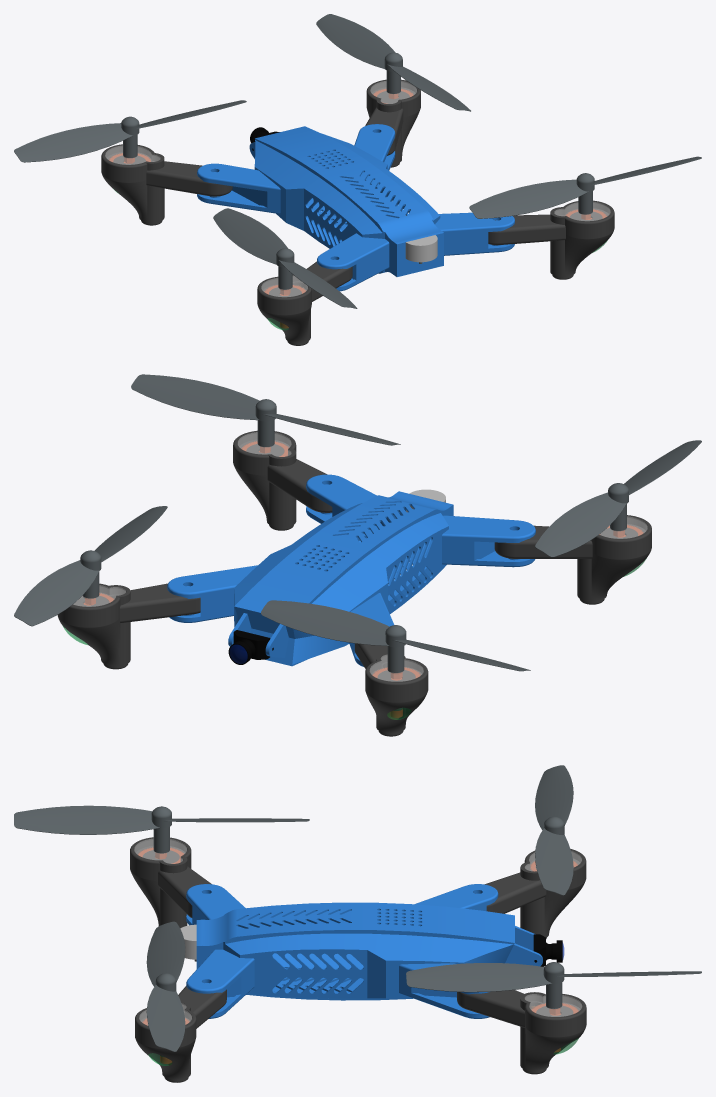
Rendered from drone.glb.
The picture shows the model from 3 angles, top to bottom: view 1: azimuth 30°, elevation 25°; view 2: azimuth 150°, elevation 25°; view 3: azimuth 270°, elevation 25°; orthographic projection. The views are drawn at different scales.
Visible parts, largest first — view 1: Solid1.006, Solid1.005, Solid1.020, Solid1.004, Solid1.013, Solid1.021, Solid1.003, Solid1.016, Solid1.017, Solid1.011, Solid1.009; view 2: Solid1.006, Solid1.011, Solid1.005, Solid1.020, Solid1.017, Solid1.021, Solid1.013, Solid1.016, Solid1.003, Solid1.004, Solid1.001; view 3: Solid1.006, Solid1.005, Solid1.011, Solid1.016, Solid1.003, Solid1.017, Solid1.013, Solid1.021, Solid1.004, Solid1.020, Solid1.001.
Part boxes in pixels (x1,y1,x2,y2): Solid1.006: (197,124,514,272); Solid1.005: (197,147,514,291); Solid1.020: (488,200,614,279); Solid1.004: (101,144,232,225); Solid1.013: (14,100,246,162); Solid1.021: (469,156,701,218); Solid1.003: (316,14,470,111); Solid1.016: (213,208,357,308); Solid1.017: (257,261,352,345); Solid1.011: (365,79,420,167); Solid1.009: (405,235,437,262); Solid1.006: (167,474,535,651); Solid1.011: (57,583,200,669); Solid1.005: (169,506,535,666); Solid1.020: (233,430,332,530); Solid1.017: (494,515,651,604); Solid1.021: (131,374,400,447); Solid1.013: (261,600,530,673); Solid1.016: (535,440,701,557); Solid1.003: (14,506,167,626); Solid1.004: (354,643,428,736); Solid1.001: (228,630,273,664); Solid1.006: (186,884,542,994); Solid1.005: (186,914,542,1018); Solid1.011: (457,990,586,1074); Solid1.016: (14,805,309,853); Solid1.003: (406,962,701,1008); Solid1.017: (130,837,211,928); Solid1.013: (535,765,573,895); Solid1.021: (146,921,185,1051); Solid1.004: (484,849,586,938); Solid1.020: (135,985,226,1082); Solid1.001: (533,934,564,966).
Size of the model in its own units: 0.3244 by 0.0613 by 0.3351.
